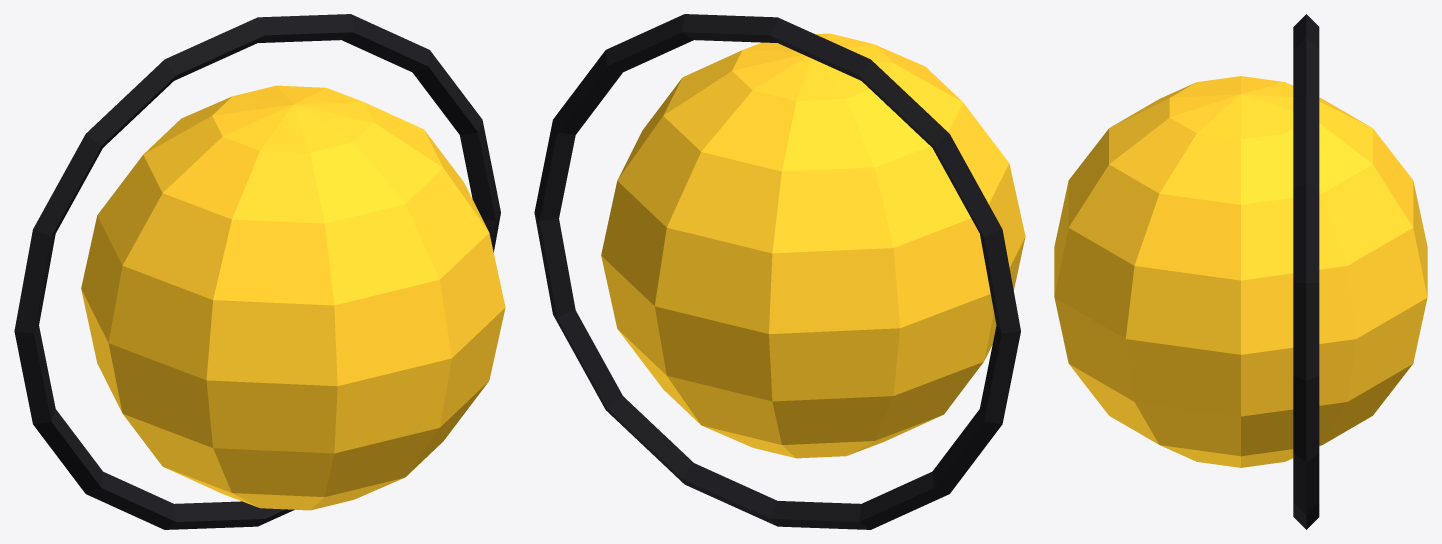
The model's file is golden_nose.glb.
3 renders of one model, left to right at view 1: azimuth 30°, elevation 25°; view 2: azimuth 150°, elevation 25°; view 3: azimuth 270°, elevation 25°, orthographic. The views are drawn at different scales.
Parts seen in each view (by area): view 1: nose_nose_gold, nose_nose_band; view 2: nose_nose_gold, nose_nose_band; view 3: nose_nose_gold, nose_nose_band.
Boxes of the visible parts, box(x1,y1,x2,y2) form: nose_nose_gold: box(81, 85, 505, 510); nose_nose_band: box(14, 14, 500, 529); nose_nose_gold: box(601, 33, 1025, 458); nose_nose_band: box(534, 14, 1020, 529); nose_nose_gold: box(1054, 76, 1427, 467); nose_nose_band: box(1293, 14, 1319, 529).
Size of the model in its own units: 0.158 by 0.158 by 0.1141.
